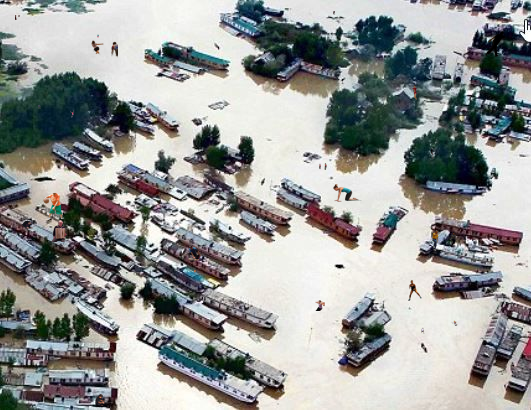Human: (485, 31, 506, 57), (432, 230, 457, 251), (333, 184, 362, 202), (43, 193, 63, 219), (421, 320, 458, 334), (91, 40, 118, 58), (51, 220, 67, 242), (408, 280, 422, 301), (296, 163, 327, 171), (187, 246, 201, 262), (95, 394, 106, 409), (315, 300, 325, 311), (21, 221, 33, 229), (412, 85, 417, 100), (275, 387, 285, 393), (27, 105, 41, 109), (430, 148, 435, 159), (70, 110, 74, 118), (368, 307, 372, 315), (15, 15, 20, 20), (281, 372, 285, 377), (194, 269, 196, 274), (333, 11, 335, 16), (97, 34, 99, 39)
